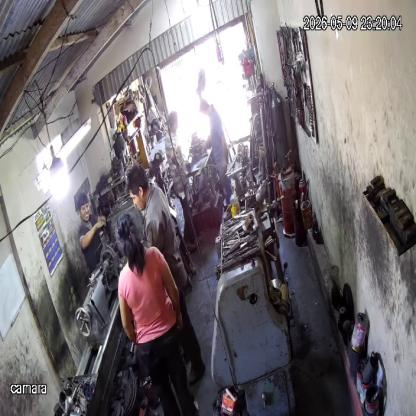sin_lentes: (80, 204, 90, 212)
